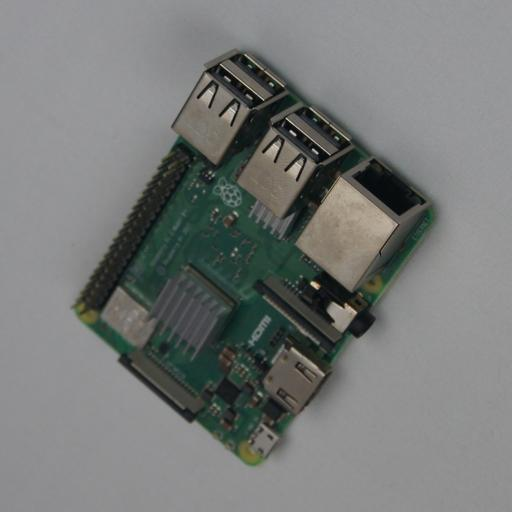Raspberry Pi 3 B-: (72, 49, 438, 465)
